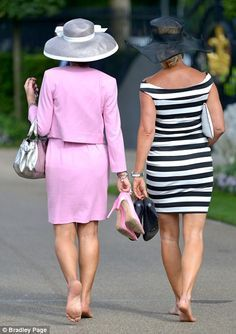Person: (12, 16, 131, 320), (130, 16, 227, 327)
